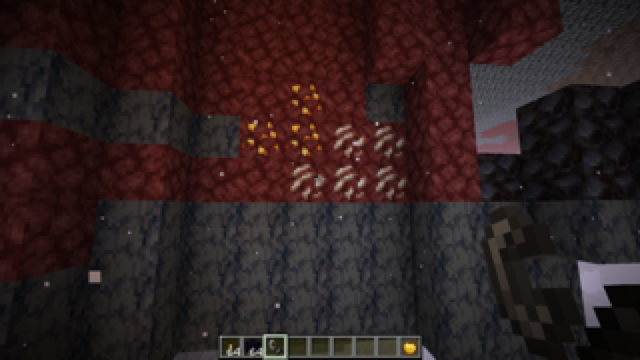nethergold: (239, 82, 326, 161)
quartz: (289, 123, 410, 202)
